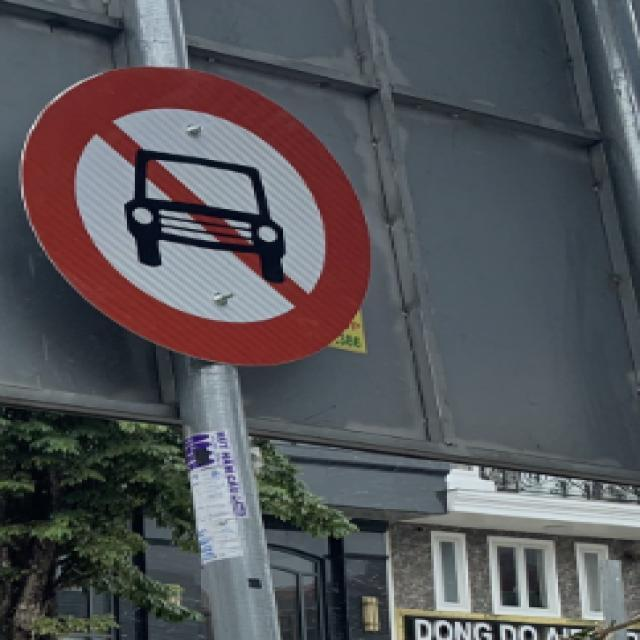103a-cam-oto: (16, 69, 373, 368)
